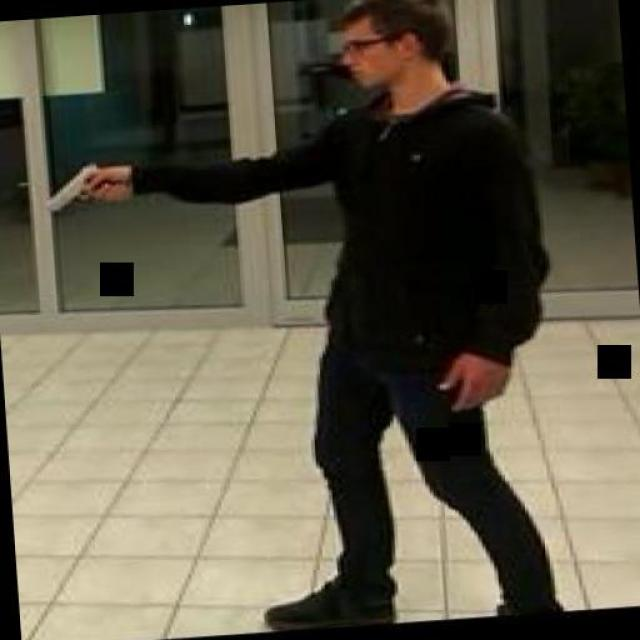gun: (34, 156, 124, 215)
